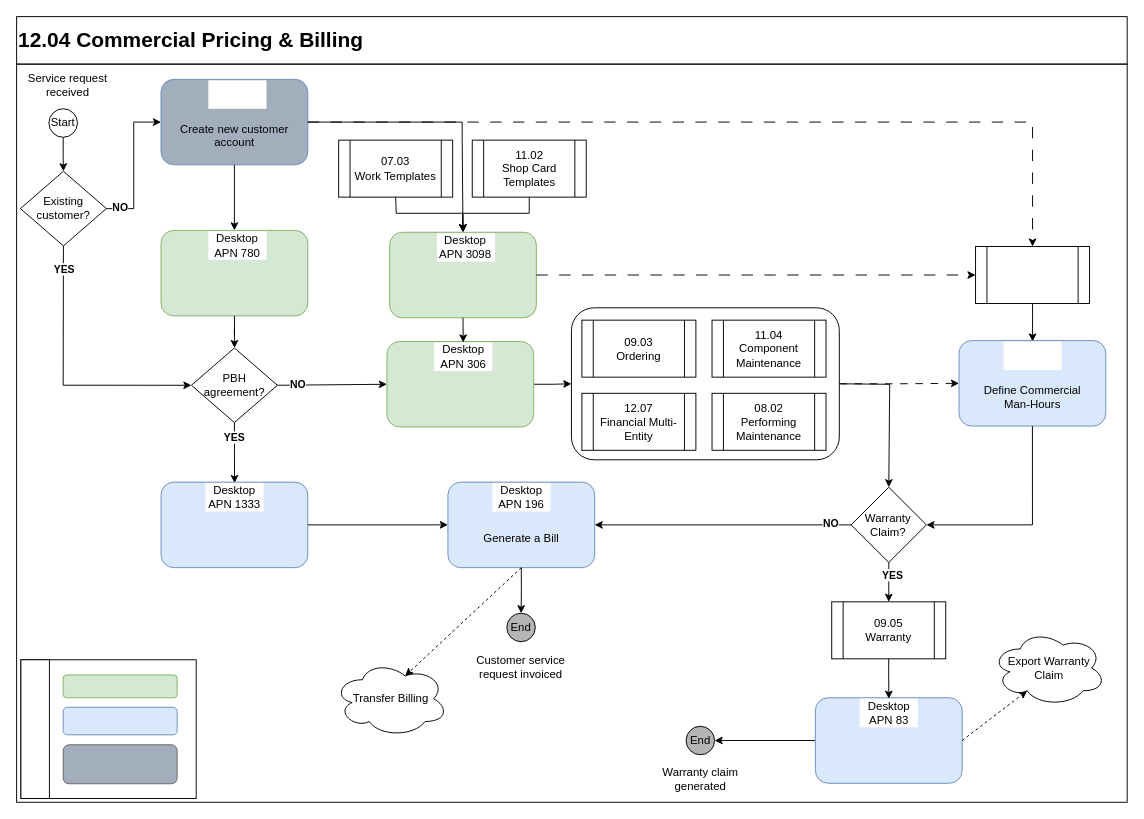
Some shapes in this 1144 by 819 pixel diagram are drawn without their labels. The shapes that lost their labels are listed below. From the top down, each one's box as (x1, y1, x2, y2) in pixels, then its label:
(208, 80, 266, 108): Desktop APN 53
(160, 229, 308, 316): Create Customer contract
(389, 231, 536, 318): Define Commercial Pricing conditions
(975, 246, 1090, 304): 12.05 Customer Quotations
(1003, 341, 1061, 370): Desktop APN 3301
(386, 341, 534, 427): Generate customer project
(160, 481, 308, 568): Generate a PBH Bill/Report
(62, 674, 177, 698): Sales Dpt.
(20, 659, 49, 798): LEGEND
(62, 706, 177, 735): Accounting Dpt.
(814, 697, 962, 783): Generate Aircraft and/or Component Warranty Claim
(62, 744, 177, 784): AMOS Competent Centre
